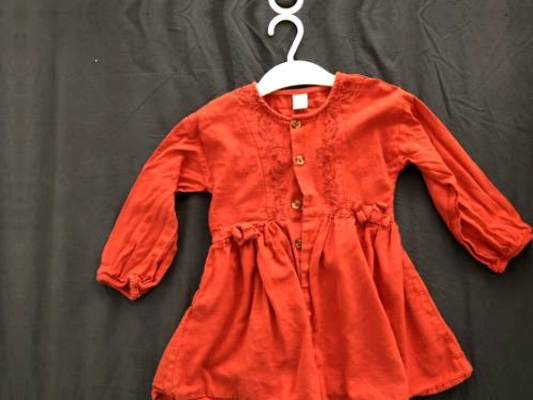Dress: (107, 42, 533, 400)
